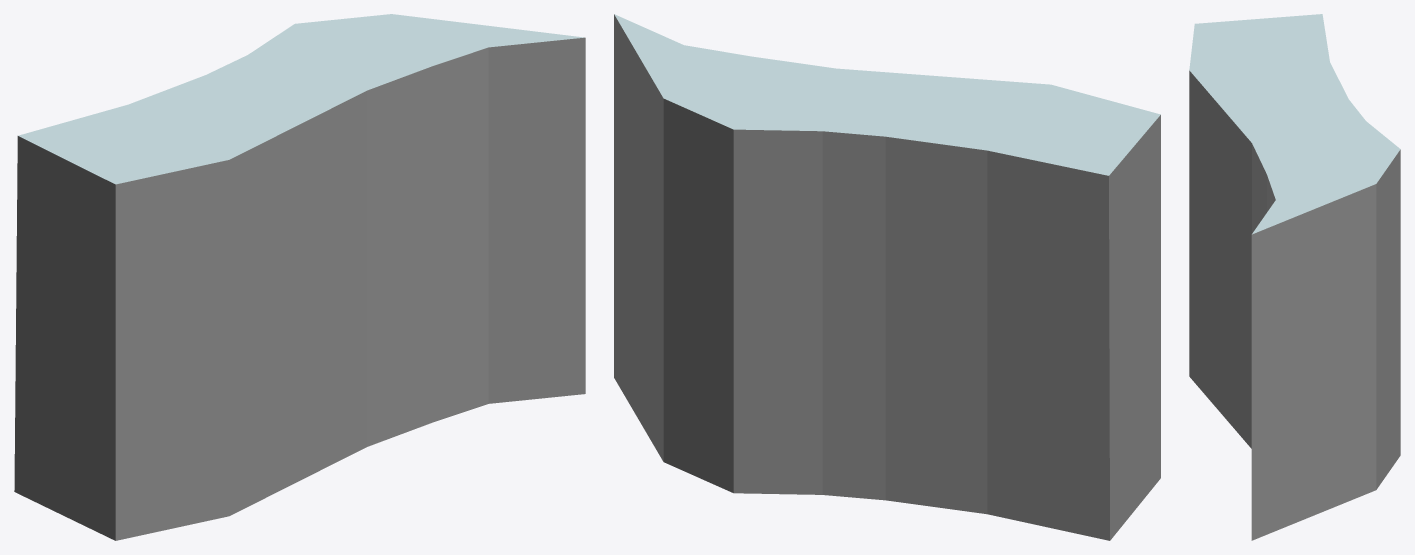
The model's file is Map_winter_rock.fbx.
3 views of the same model, side by side, from view 1: azimuth 30°, elevation 25°; view 2: azimuth 150°, elevation 25°; view 3: azimuth 270°, elevation 25° (orthographic). The views are drawn at different scales.
Parts seen in each view (by area): view 1: BackGround.001; view 2: BackGround.001; view 3: BackGround.001.
Part boxes in pixels (bbox=[...]): BackGround.001: bbox=[14, 14, 585, 540]; BackGround.001: bbox=[614, 14, 1160, 540]; BackGround.001: bbox=[1189, 14, 1400, 540].
Bounding box in the file's own units: 85.52 × 55.11 × 34.46.
